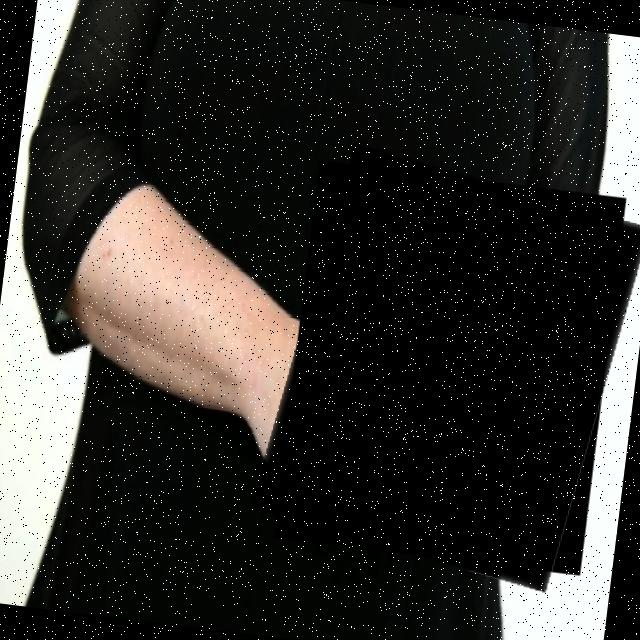Y: (259, 148, 640, 588)
